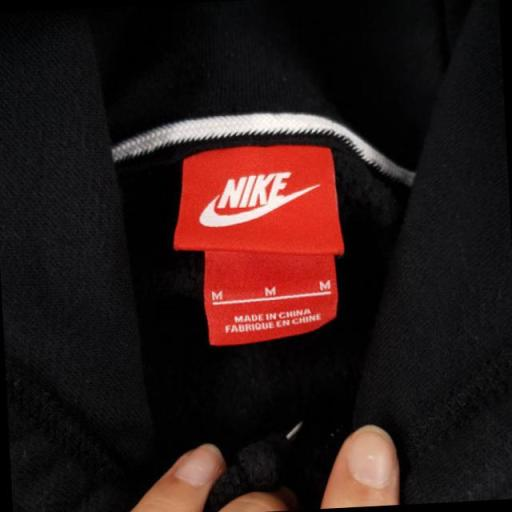Nike: (199, 196, 300, 230), (217, 171, 294, 209)
